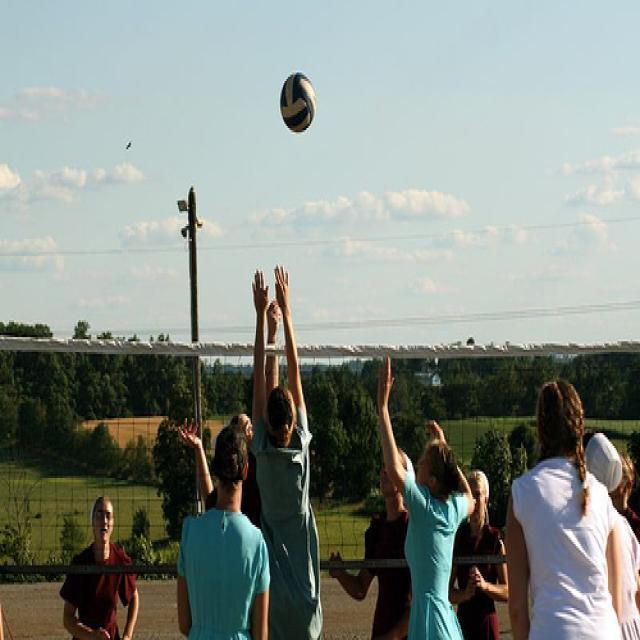volleyball: (280, 72, 317, 132)
